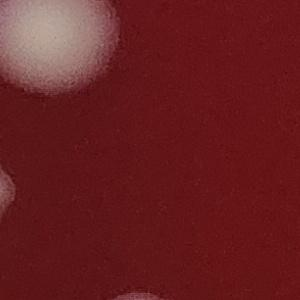colony: (0, 0, 123, 110), (0, 154, 23, 225), (101, 288, 174, 300)
